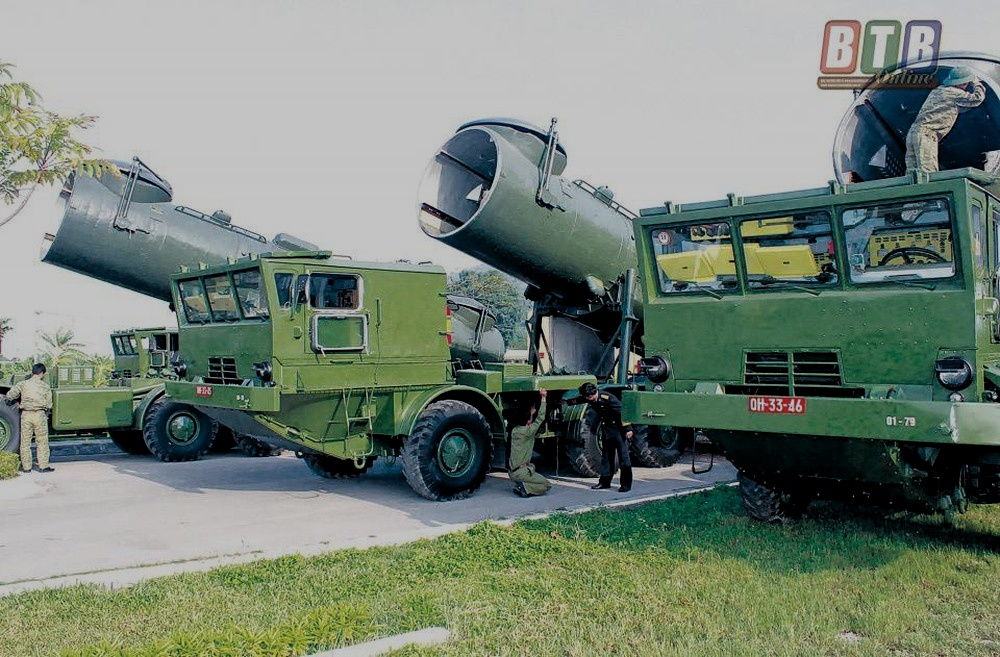plate: (748, 395, 808, 421), (192, 382, 216, 395)
